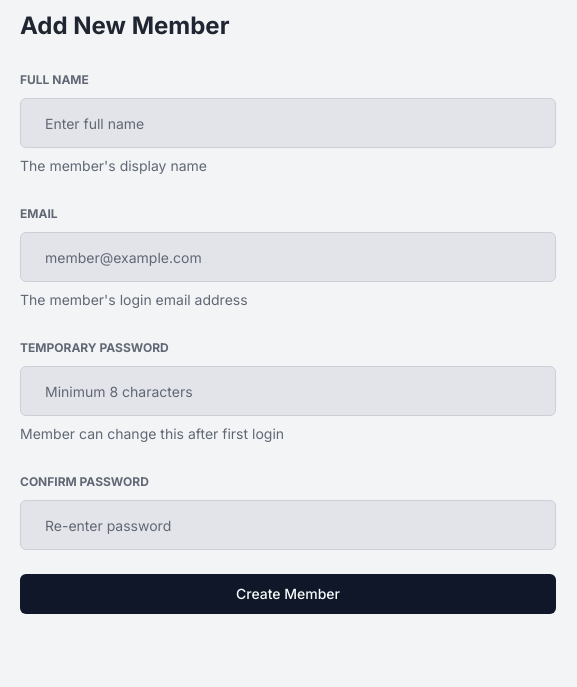
Test: AddMemberForm › validates required fields on empty submit
Click the button "Create Member" at (288, 594), box [20, 574, 556, 614]
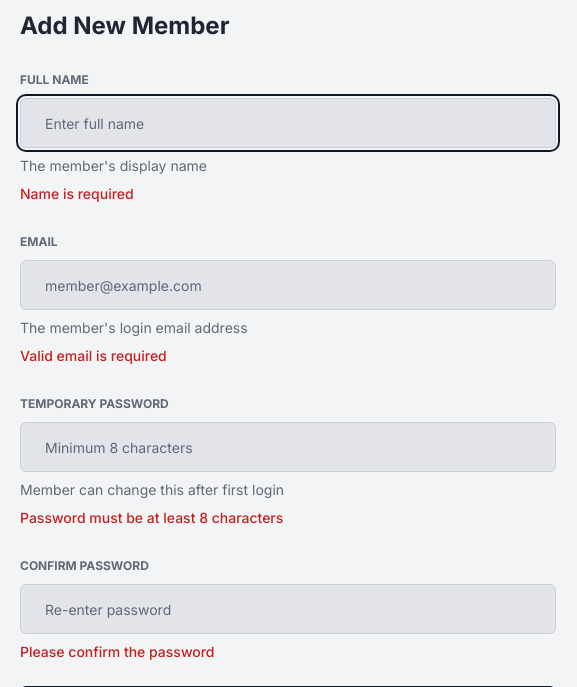
Expected: the text "Name is required" is shown, [20, 185, 134, 202]
